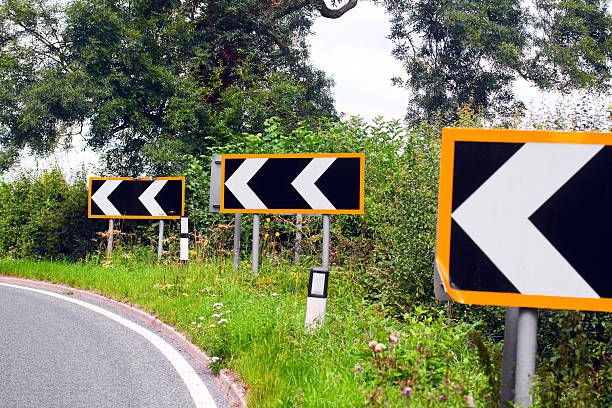left turn: (442, 127, 612, 308), (220, 155, 364, 214), (88, 177, 184, 218)
